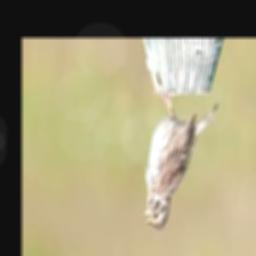Sparrow: (142, 94, 219, 230)
